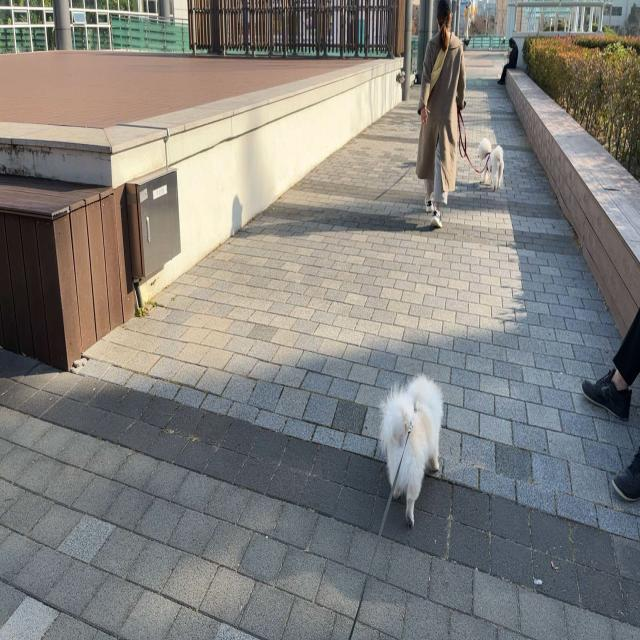Dog: (378, 371, 445, 530)
Leashed_Dog: (451, 100, 505, 192)
